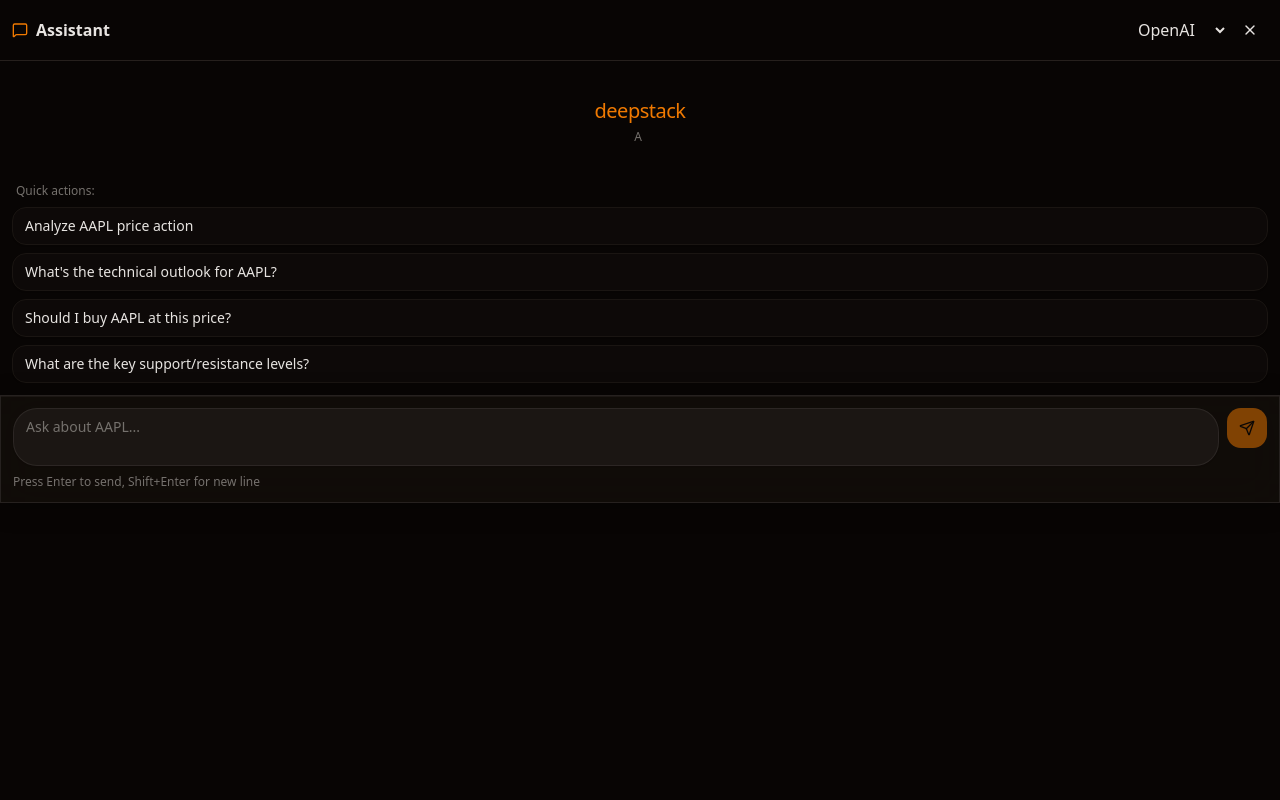
Test: ChatSidePanel › Message Display › shows user message after sending
The image size is (1280, 800).
Type "Hello!" into the text box with placeholder "Ask about AAPL..." at point(616, 437), box [13,408,1219,466]
Then press Enter
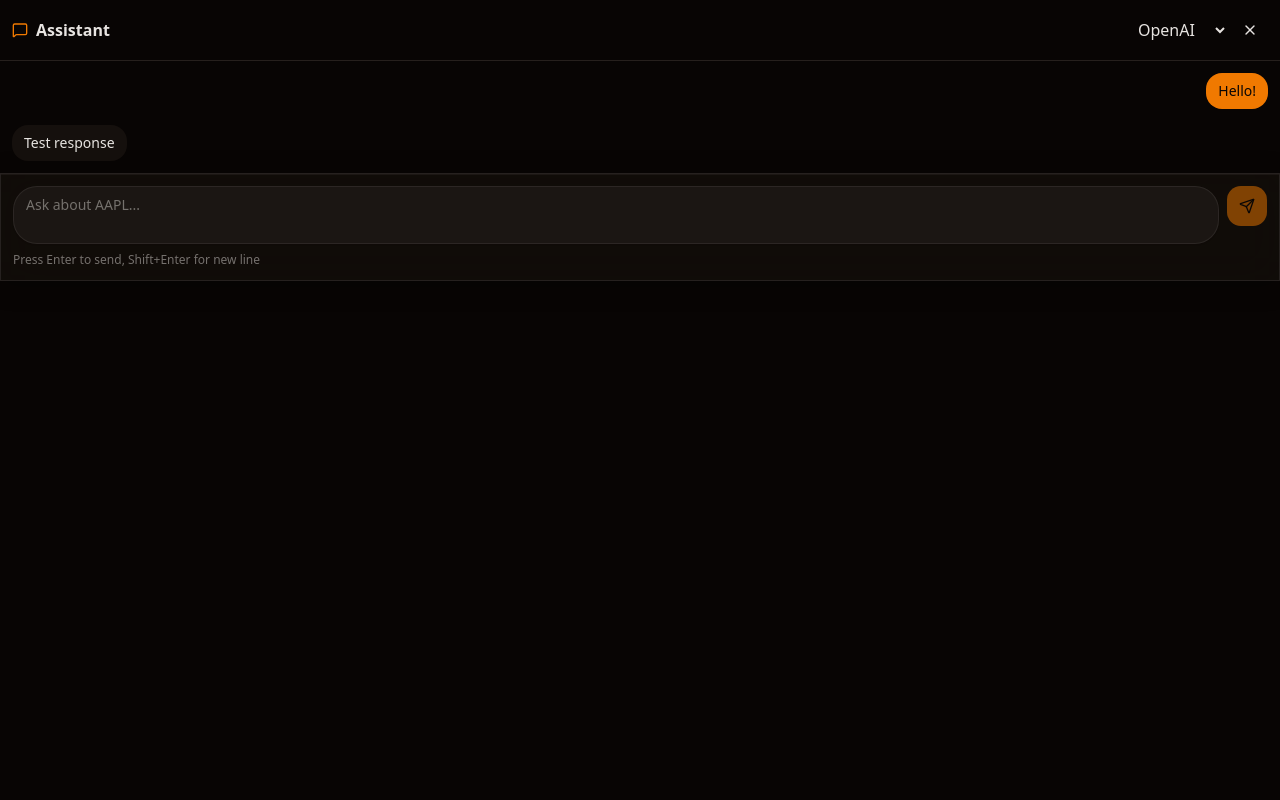
Check: the text "Hello!" is shown, box [1206,73,1268,109]
